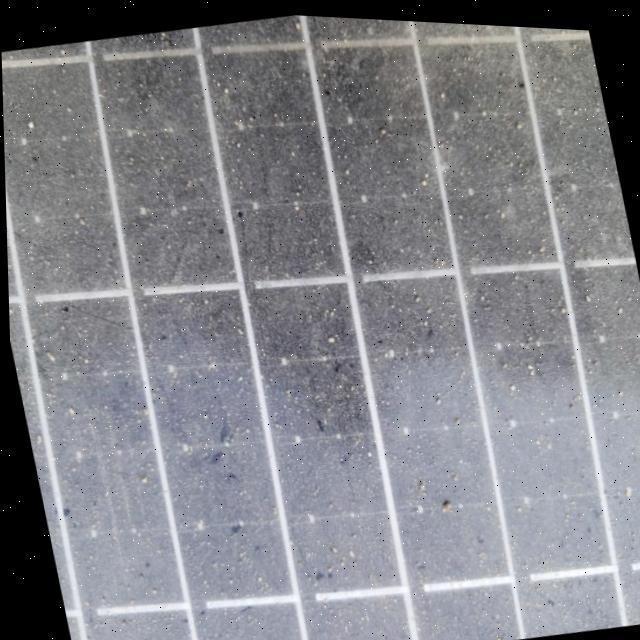Anomaly Solar Panel: (1, 12, 640, 640)
Surface Contaminant: (1, 12, 640, 640)
